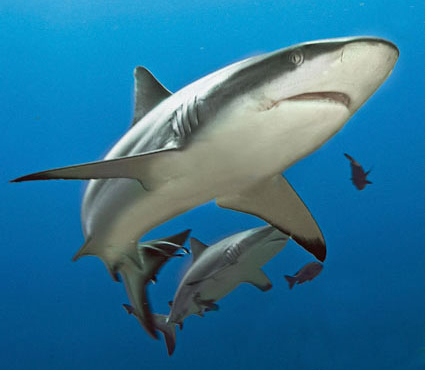Carcharhinus_amblyrhynchos: (8, 23, 405, 370)
